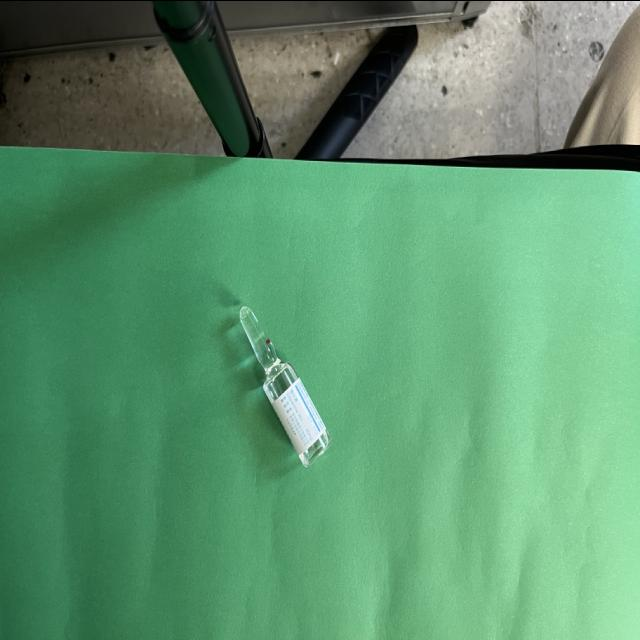Ampoules: (240, 306, 329, 465)
